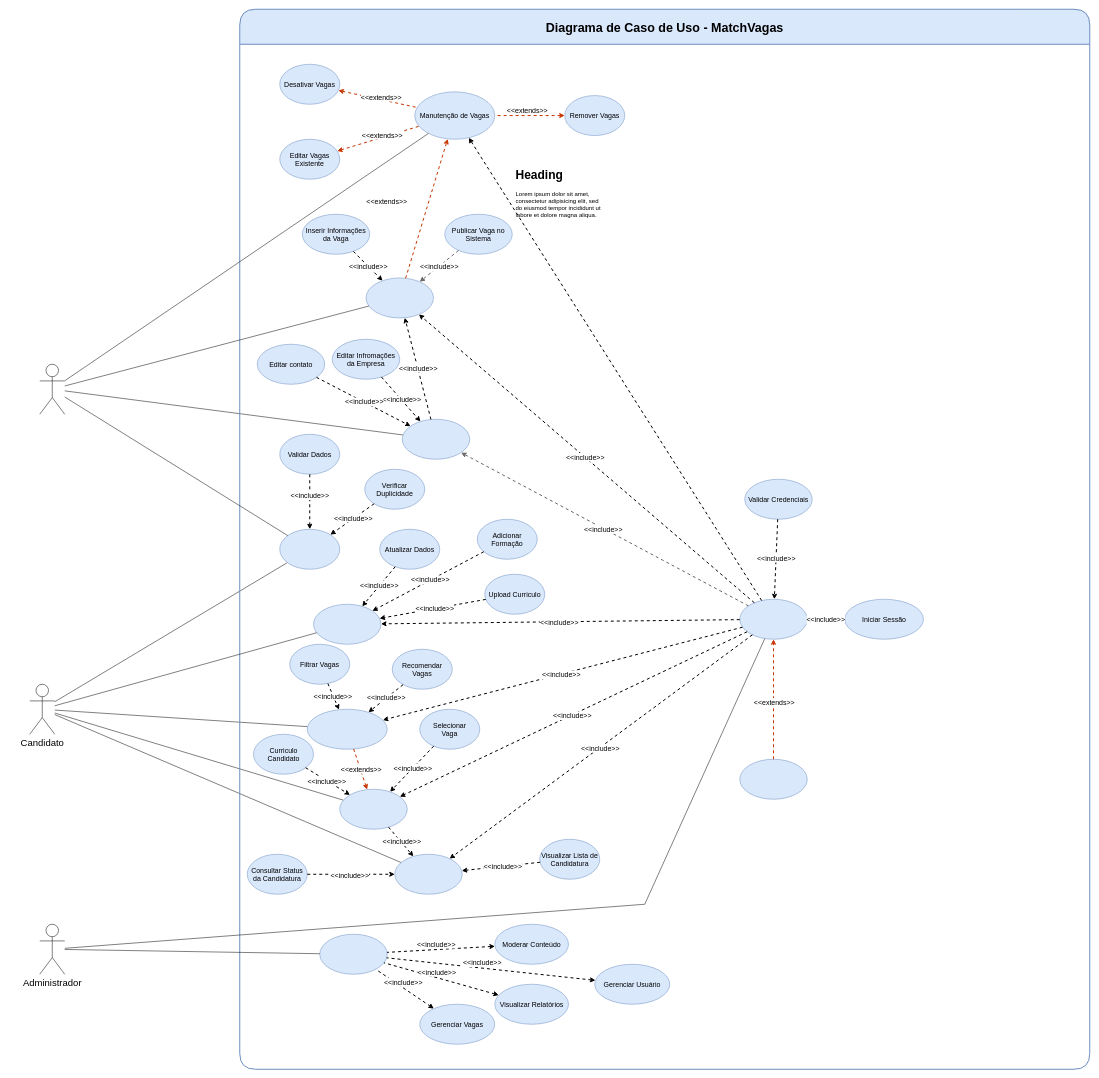
The diagram is 1099 pixels wide and 1078 high, and some of its shapes have lost their labels. The shapes that lost their labels are listed below. From the top down, each one's box as (x1, y1, x2, y2) in pixels, then its label:
(366, 277, 434, 318): Cadastro de Vagas
(39, 364, 65, 414): Empresa/Recrutador
(402, 419, 470, 459): Gerenciamento do Perfil da Empresa
(279, 529, 340, 569): Cadastro de Usuários
(313, 604, 381, 644): Gerenciamento do Perfil do Usuário
(739, 599, 807, 639): Autenticação
(307, 709, 387, 749): Busca e Filtragem de Vagas
(739, 759, 807, 799): Recuperar Senha
(339, 789, 407, 829): Candidatura à Vaga
(394, 854, 462, 894): Acompanhamento de Candidaturas
(319, 934, 387, 974): Administração do Sistema
